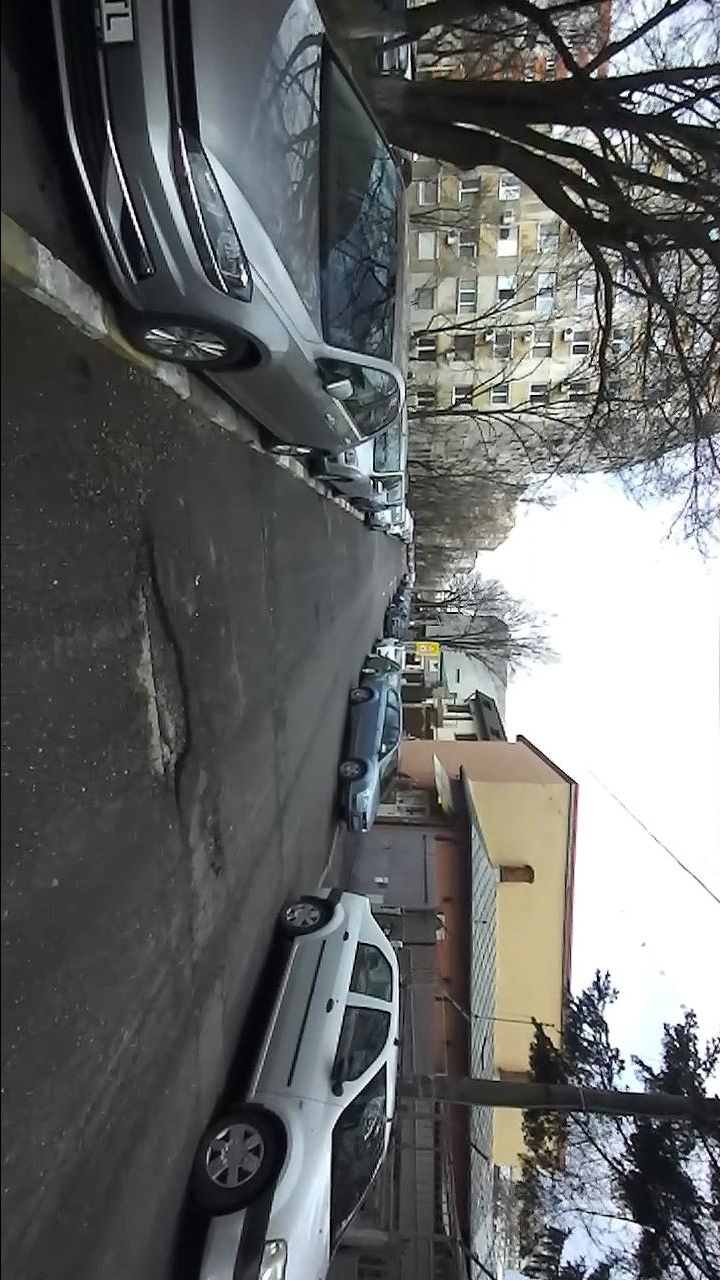pothole: (119, 521, 196, 830), (203, 797, 232, 882)
